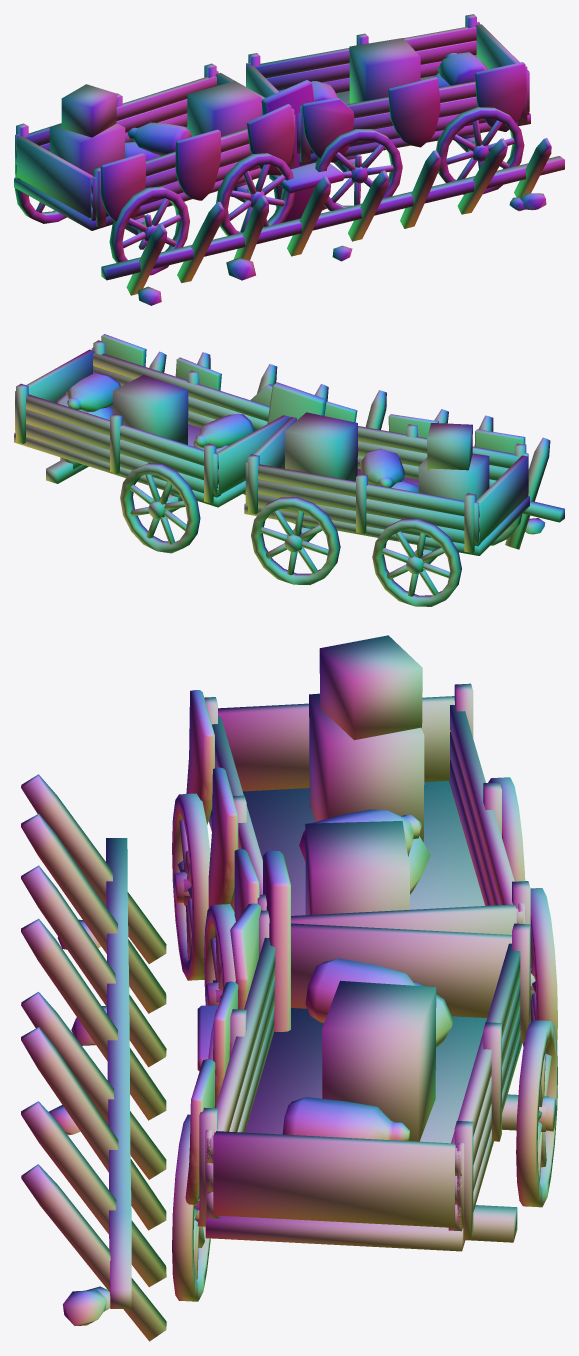
File: SM_Prop_March_WagonBarricade.fbx
The picture shows the model from 3 angles, top to bottom: view 1: azimuth 30°, elevation 25°; view 2: azimuth 150°, elevation 25°; view 3: azimuth 270°, elevation 25°; orthographic projection. The views are drawn at different scales.
Parts seen in each view (by area): view 1: SM_Prop_March_WagonBarricade; view 2: SM_Prop_March_WagonBarricade; view 3: SM_Prop_March_WagonBarricade.
Boxes of the visible parts, box(x1,y1,x2,y2) form: SM_Prop_March_WagonBarricade: box(14, 14, 564, 305); SM_Prop_March_WagonBarricade: box(14, 334, 564, 606); SM_Prop_March_WagonBarricade: box(21, 635, 557, 1341).
Size of the model in its own units: 4.89 by 1.56 by 2.44.
